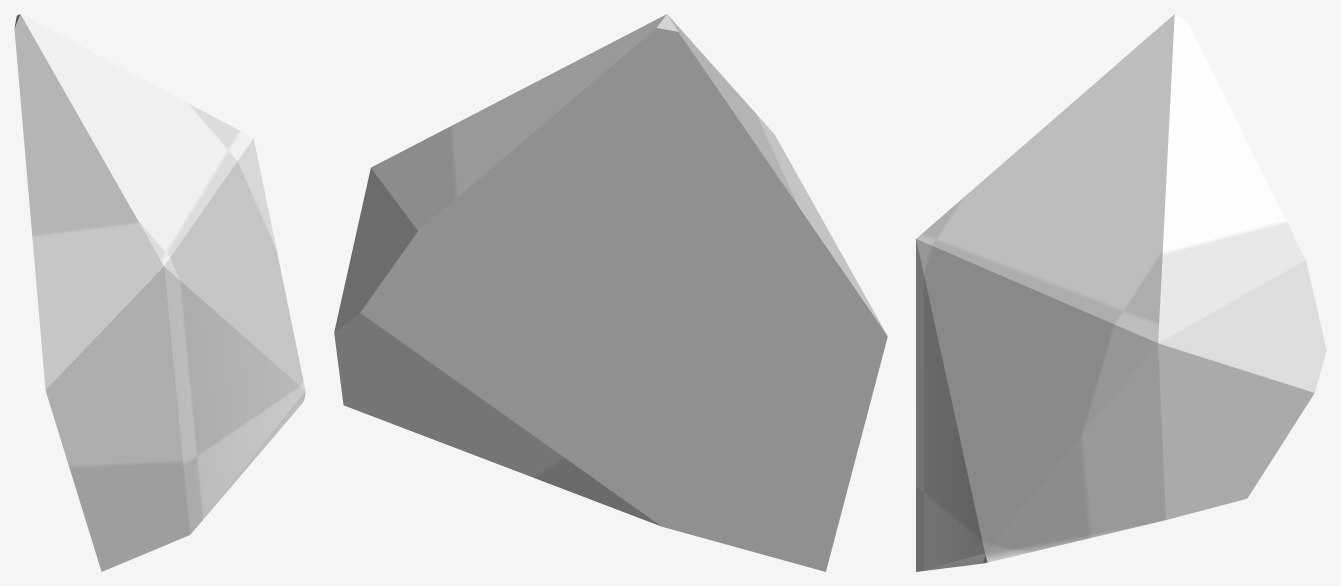
File: FacetLeadership.glb
The picture shows the model from 3 angles, left to right: view 1: azimuth 30°, elevation 25°; view 2: azimuth 150°, elevation 25°; view 3: azimuth 270°, elevation 25°; orthographic projection. The views are drawn at different scales.
Visible parts, largest first — view 1: 05Leadership.001; view 2: 05Leadership.001; view 3: 05Leadership.001.
Boxes of the visible parts, x1=… form: 05Leadership.001: x1=14, y1=14, x2=305, y2=571; 05Leadership.001: x1=334, y1=14, x2=887, y2=571; 05Leadership.001: x1=916, y1=14, x2=1326, y2=571.
Bounding box in the file's own units: 1.17 × 1.79 × 1.19.
2 materials, 1 textured.
